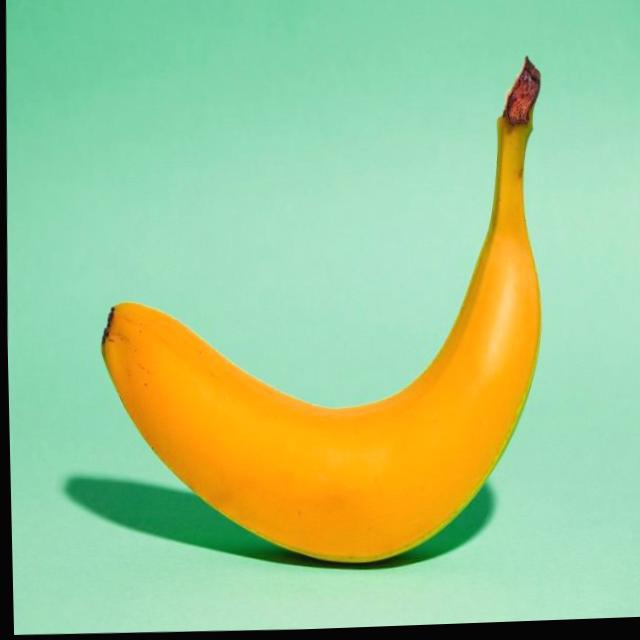Banana: (89, 50, 550, 577)
